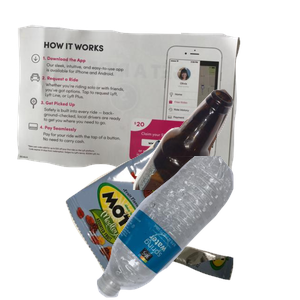glass: (130, 87, 300, 267)
paper: (14, 22, 247, 191)
plastic: (94, 156, 300, 300)
trash: (63, 137, 289, 300)
